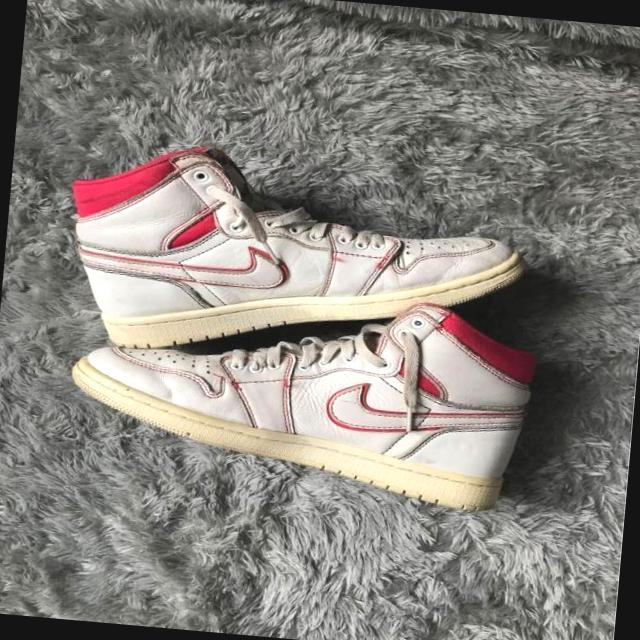nike_original_jordan: (56, 134, 532, 383), (59, 273, 528, 516)
